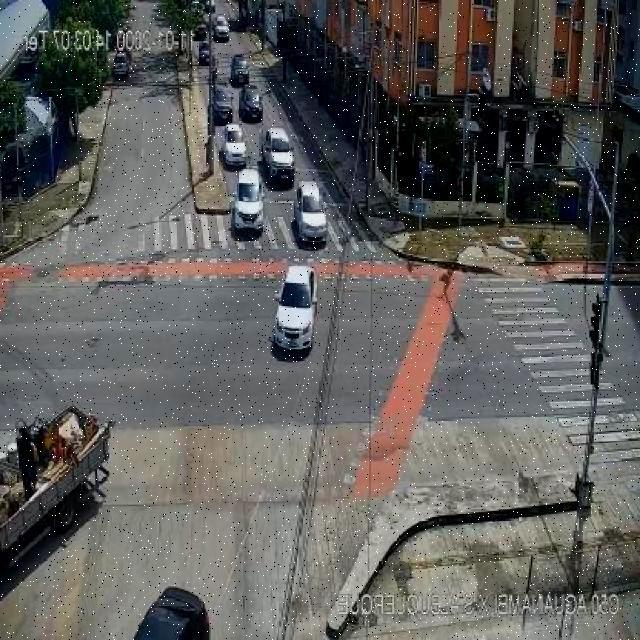Car: (266, 252, 326, 355), (126, 588, 215, 640), (293, 182, 326, 244), (233, 170, 265, 233), (222, 122, 248, 168), (238, 84, 263, 120), (212, 86, 234, 122), (230, 54, 250, 85), (212, 14, 230, 42), (113, 52, 130, 81), (198, 44, 211, 66)
Truck: (0, 404, 124, 534)
Van: (261, 126, 295, 182)
